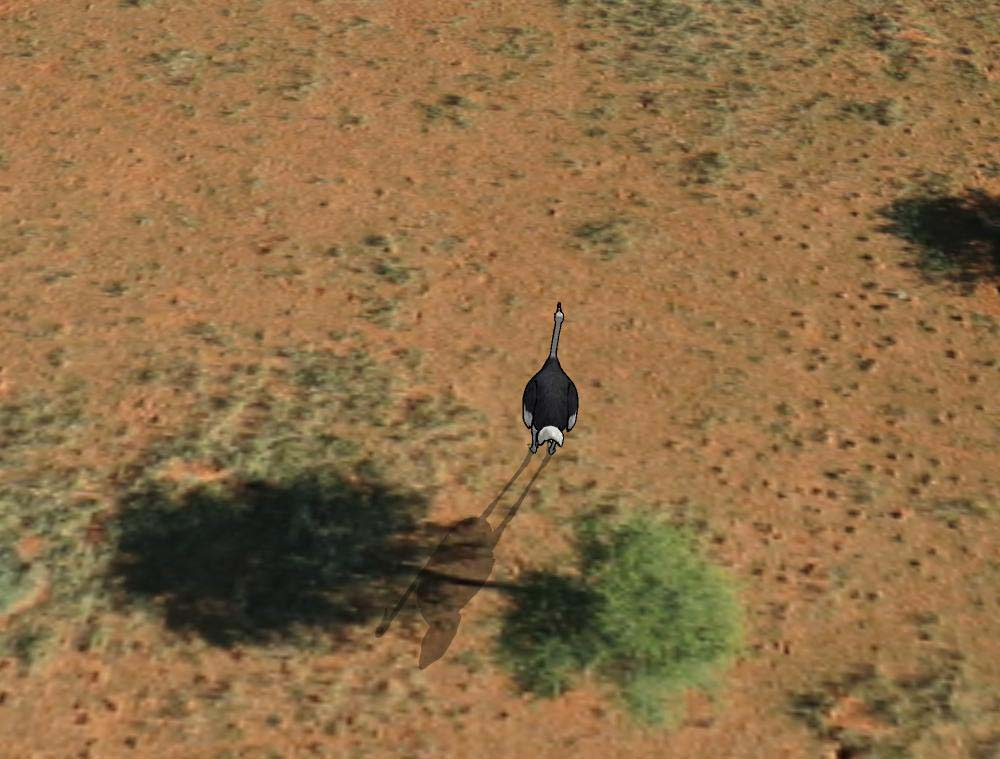springbok: (512, 302, 592, 457)
